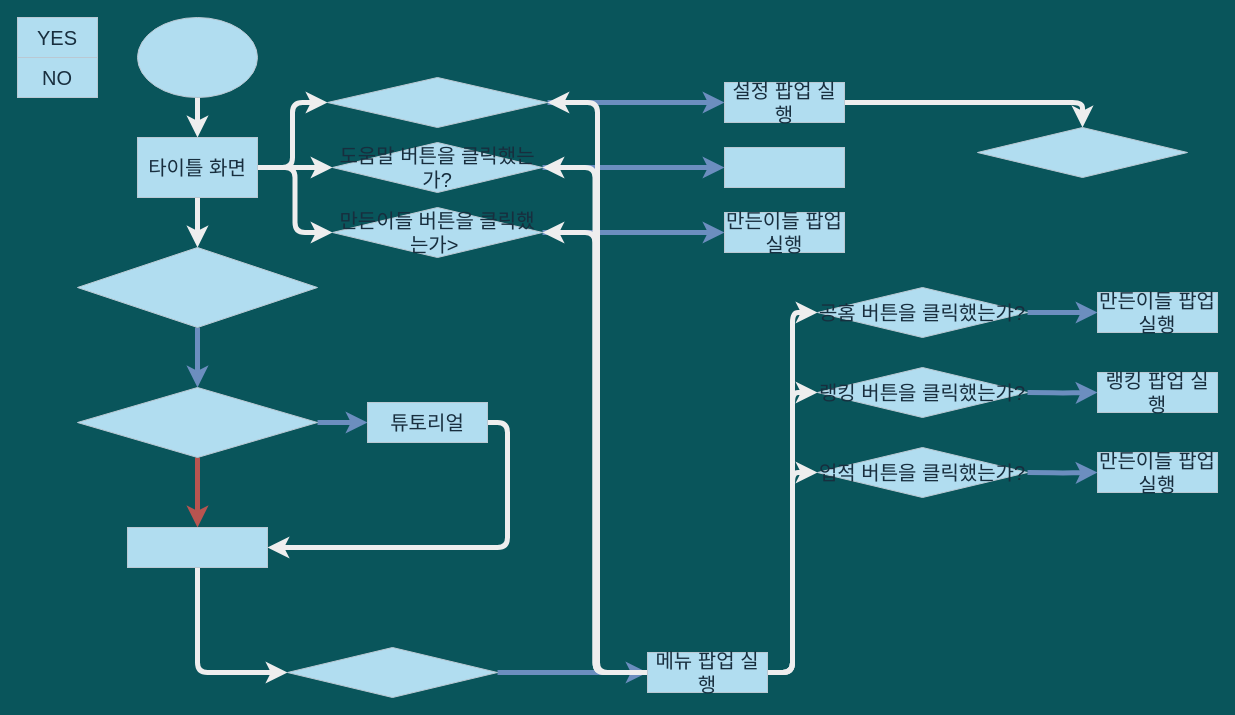
Some shapes in this 1235 by 715 pixel diagram are drawn without their labels. The box of each missing label's shape, as (x1, y1, x2, y2) in pixels:
게임시작 버튼을 클릭했는가?: (76, 246, 318, 328)
게임실행: (136, 16, 258, 98)
닫기 버튼을 클릭했는가?: (976, 126, 1188, 178)
도움말 팝업 실행: (724, 146, 844, 188)
메뉴 버튼을 클릭했는가?: (286, 646, 498, 698)
메인 화면으로 넘어감: (126, 526, 268, 568)
설정 버튼을 클릭했는가?: (326, 76, 548, 128)
처음 플레이 하는가?: (76, 386, 318, 458)
